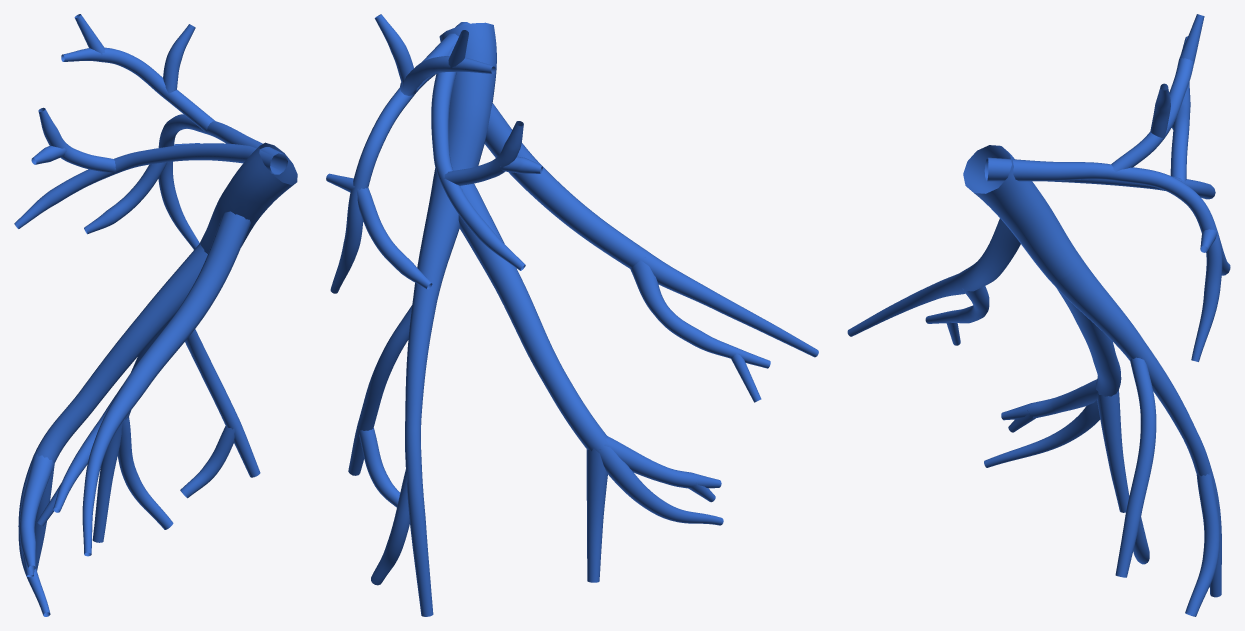
The model's file is circulatorio-inferior-lobar-artery-of-right-lung.glb.
3 views of the same model, side by side, from view 1: azimuth 30°, elevation 25°; view 2: azimuth 150°, elevation 25°; view 3: azimuth 270°, elevation 25° (orthographic). The views are drawn at different scales.
Parts seen in each view (by area): view 1: Superior segmental artery of right lung, Anterior basal segmental artery of right lung, Lateral basal segmental artery of right lung, Inferior lobar artery of right lung, Medial basal segmental artery of right lung, Posterior basal segmental artery of right lung; view 2: Superior segmental artery of right lung, Anterior basal segmental artery of right lung, Lateral basal segmental artery of right lung, Posterior basal segmental artery of right lung, Inferior lobar artery of right lung, Medial basal segmental artery of right lung; view 3: Superior segmental artery of right lung, Posterior basal segmental artery of right lung, Anterior basal segmental artery of right lung, Inferior lobar artery of right lung, Lateral basal segmental artery of right lung, Medial basal segmental artery of right lung.
Boxes of the visible parts, x1,y1,x2,y2 form: Superior segmental artery of right lung: (14,14,287,249); Anterior basal segmental artery of right lung: (18,243,207,616); Lateral basal segmental artery of right lung: (37,211,250,556); Inferior lobar artery of right lung: (201,142,297,253); Medial basal segmental artery of right lung: (180,329,260,498); Posterior basal segmental artery of right lung: (92,238,202,542); Superior segmental artery of right lung: (326,14,542,293); Anterior basal segmental artery of right lung: (458,183,723,582); Lateral basal segmental artery of right lung: (484,103,818,402); Posterior basal segmental artery of right lung: (371,177,459,616); Inferior lobar artery of right lung: (433,22,496,177); Medial basal segmental artery of right lung: (348,305,412,507); Superior segmental artery of right lung: (984,14,1230,361); Posterior basal segmental artery of right lung: (1048,256,1221,616); Anterior basal segmental artery of right lung: (984,289,1129,512); Inferior lobar artery of right lung: (963,145,1080,281); Lateral basal segmental artery of right lung: (847,218,1020,345); Medial basal segmental artery of right lung: (1115,357,1156,577).
Size of the model in its own units: 0.0929 by 0.1576 by 0.0964.
